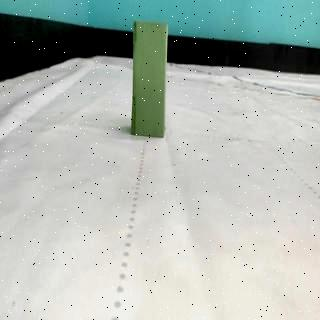greenbox: (130, 18, 168, 138)
